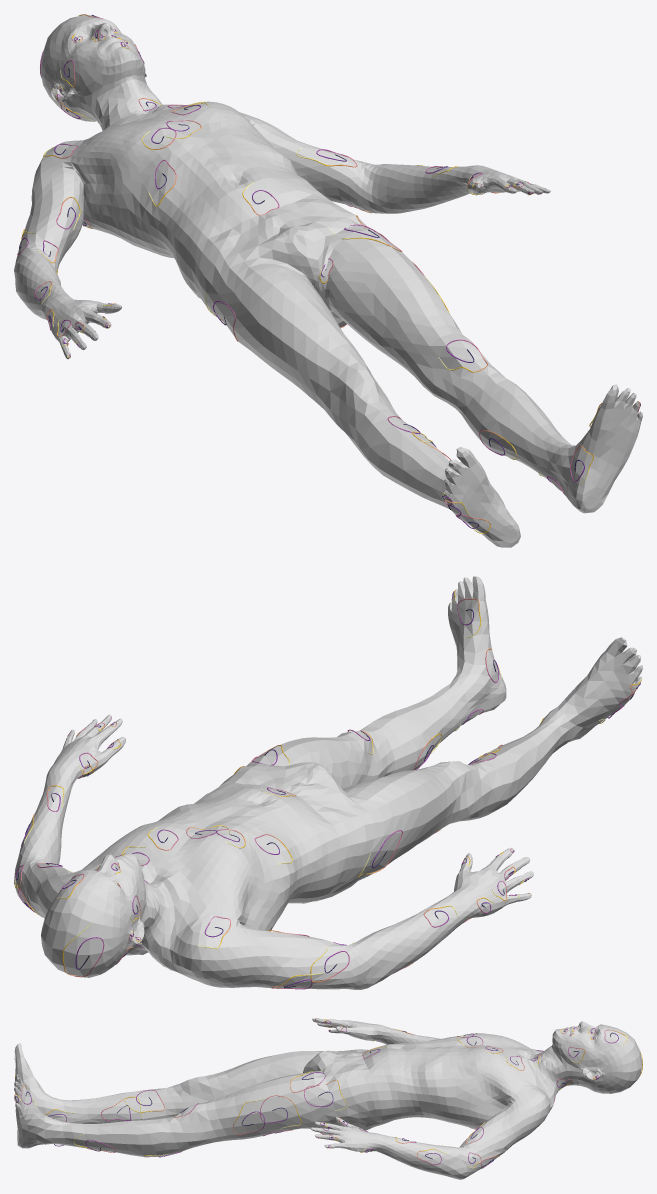
The model's file is body_ours_l1_spiral.glb.
The picture shows the model from 3 angles, top to bottom: view 1: azimuth 30°, elevation 25°; view 2: azimuth 150°, elevation 25°; view 3: azimuth 270°, elevation 25°; orthographic projection. The views are drawn at different scales.
Parts seen in each view (by area): view 1: imagetostl_mesh0; view 2: imagetostl_mesh0; view 3: imagetostl_mesh0.
Boxes of the visible parts, box(x1,y1,x2,y2) form: imagetostl_mesh0: box(14, 14, 642, 547); imagetostl_mesh0: box(14, 576, 642, 989); imagetostl_mesh0: box(14, 1018, 642, 1179).
Bounding box in the file's own units: 1 × 0.3865 × 1.78.
